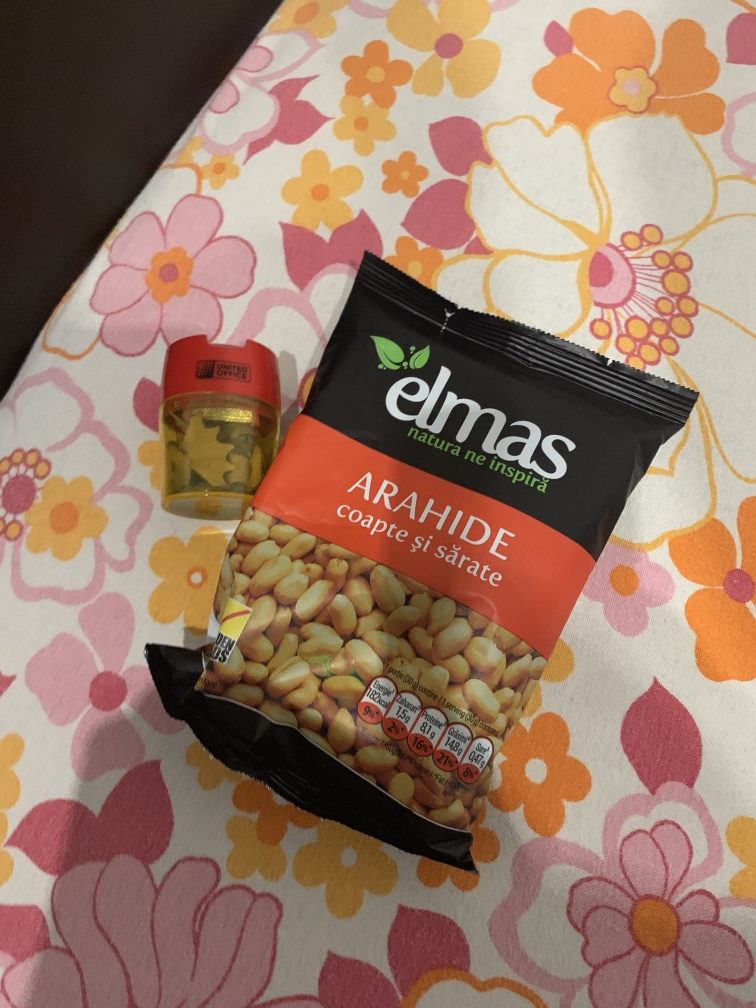peanuts: (142, 249, 706, 880)
